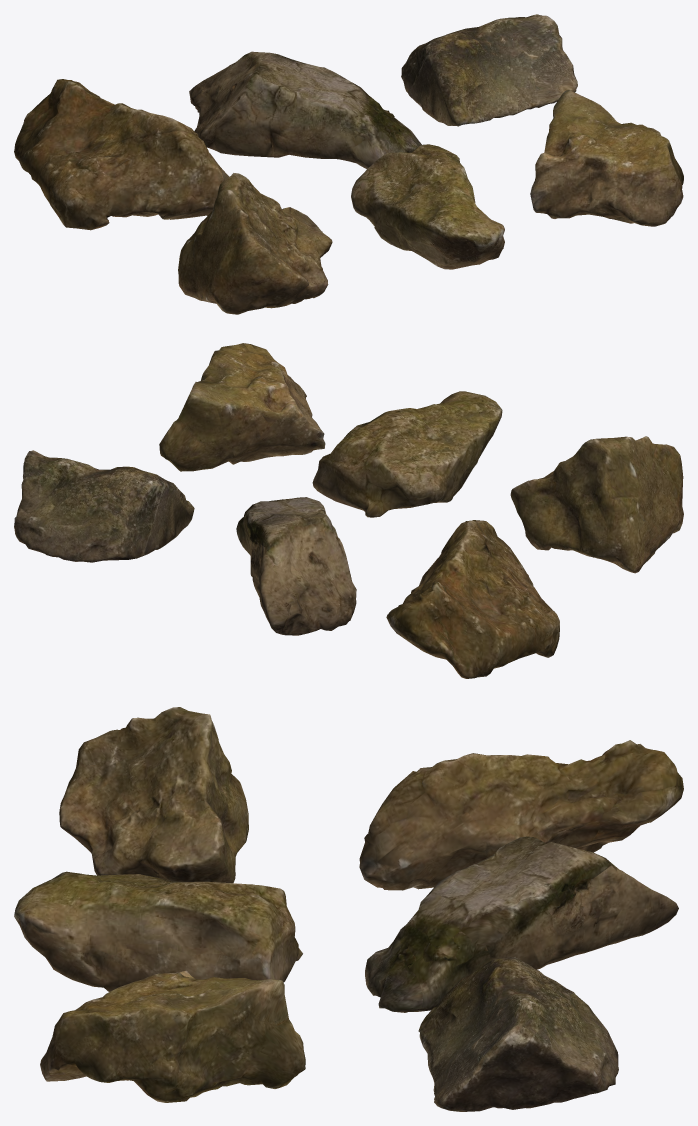
The model's file is rock_moss_set_01_longe.gltf.
The picture shows the model from 3 angles, top to bottom: view 1: azimuth 30°, elevation 25°; view 2: azimuth 150°, elevation 25°; view 3: azimuth 270°, elevation 25°; orthographic projection. The views are drawn at different scales.
Parts seen in each view (by area): view 1: rock_moss_set_01_rock01, rock_moss_set_01_rock02, rock_moss_set_01_rock06, rock_moss_set_01_rock04, rock_moss_set_01_rock03, rock_moss_set_01_rock05; view 2: rock_moss_set_01_rock04, rock_moss_set_01_rock01, rock_moss_set_01_rock05, rock_moss_set_01_rock03, rock_moss_set_01_rock06, rock_moss_set_01_rock02; view 3: rock_moss_set_01_rock01, rock_moss_set_01_rock02, rock_moss_set_01_rock05, rock_moss_set_01_rock04, rock_moss_set_01_rock06, rock_moss_set_01_rock03.
Boxes of the visible parts, x1=… form: rock_moss_set_01_rock01: x1=14, y1=79, x2=229, y2=230; rock_moss_set_01_rock02: x1=189, y1=51, x2=421, y2=169; rock_moss_set_01_rock06: x1=530, y1=90, x2=683, y2=226; rock_moss_set_01_rock04: x1=178, y1=173, x2=332, y2=314; rock_moss_set_01_rock03: x1=401, y1=14, x2=577, y2=126; rock_moss_set_01_rock05: x1=351, y1=144, x2=504, y2=269; rock_moss_set_01_rock04: x1=510, y1=436, x2=683, y2=573; rock_moss_set_01_rock01: x1=386, y1=520, x2=559, y2=678; rock_moss_set_01_rock05: x1=312, y1=391, x2=502, y2=517; rock_moss_set_01_rock03: x1=14, y1=450, x2=194, y2=562; rock_moss_set_01_rock06: x1=159, y1=343, x2=325, y2=471; rock_moss_set_01_rock02: x1=236, y1=497, x2=356, y2=635; rock_moss_set_01_rock01: x1=359, y1=740, x2=683, y2=890; rock_moss_set_01_rock02: x1=365, y1=836, x2=678, y2=1012; rock_moss_set_01_rock05: x1=14, y1=871, x2=302, y2=991; rock_moss_set_01_rock04: x1=59, y1=707, x2=248, y2=883; rock_moss_set_01_rock06: x1=40, y1=970, x2=305, y2=1102; rock_moss_set_01_rock03: x1=418, y1=956, x2=618, y2=1111.
Bounding box in the file's own units: 8 × 1.77 × 6.94.
Materials: 1 (1 with a texture image).
